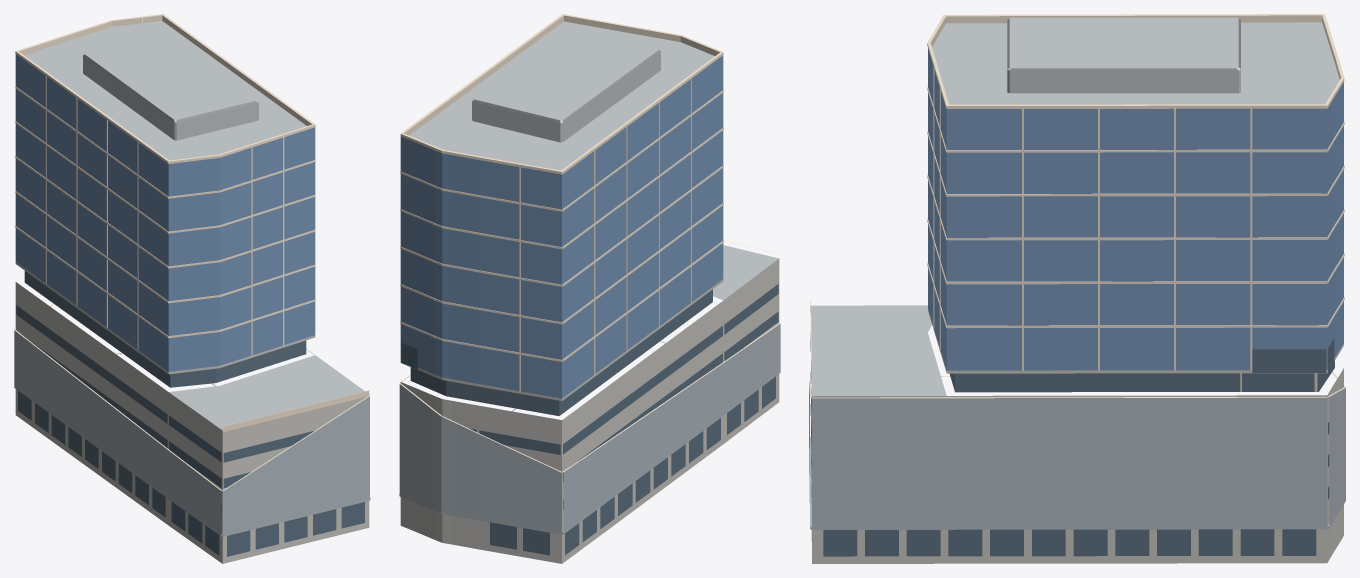
The model's file is clt-110-east.glb.
3 renders of one model, left to right at view 1: azimuth 30°, elevation 25°; view 2: azimuth 150°, elevation 25°; view 3: azimuth 270°, elevation 25°, orthographic. The views are drawn at different scales.
Parts seen in each view (by area): view 1: 110 East; view 2: 110 East; view 3: 110 East.
Boxes of the visible parts, bbox=[...] form: 110 East: bbox=[14, 14, 370, 563]; 110 East: bbox=[399, 14, 780, 563]; 110 East: bbox=[809, 14, 1345, 563].
Size of the model in its own units: 39.8 by 94.3 by 96.5.
